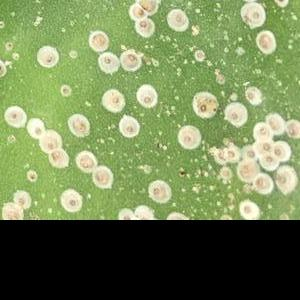Femea: (193, 94, 212, 116), (96, 51, 115, 72), (119, 48, 138, 69), (276, 168, 293, 189), (39, 48, 57, 67), (177, 126, 194, 146), (226, 105, 243, 125), (119, 116, 135, 137), (37, 135, 59, 150), (3, 106, 21, 124), (62, 192, 81, 209), (243, 7, 263, 23), (253, 172, 269, 192), (107, 92, 124, 110), (93, 168, 111, 185), (45, 149, 65, 164), (132, 20, 153, 34), (239, 201, 257, 217), (73, 117, 88, 136), (167, 9, 184, 25), (75, 154, 92, 170), (149, 179, 163, 198), (285, 121, 299, 140), (270, 151, 286, 167), (28, 118, 43, 135), (257, 34, 272, 51), (271, 151, 286, 167), (253, 147, 270, 161), (137, 89, 150, 107), (12, 193, 28, 207), (253, 121, 267, 137), (242, 92, 255, 109), (128, 13, 140, 28), (116, 209, 134, 219), (58, 82, 68, 97), (145, 0, 161, 9), (224, 147, 235, 160), (242, 148, 253, 160), (24, 169, 37, 179), (220, 167, 230, 179), (213, 150, 223, 161)
Linfa: (180, 180, 217, 193), (136, 163, 162, 176), (144, 129, 166, 142), (162, 102, 178, 119), (173, 95, 181, 101), (222, 46, 228, 54), (236, 35, 243, 41), (285, 44, 292, 50), (175, 66, 182, 71), (288, 39, 293, 44), (176, 71, 180, 75)
